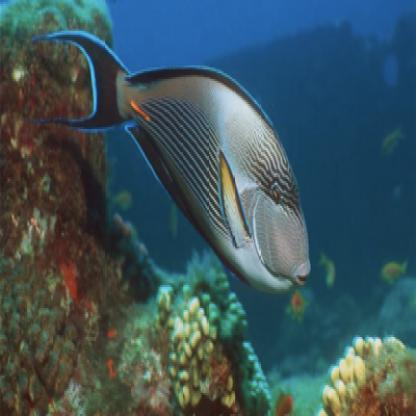surgeon: (29, 26, 314, 296)
